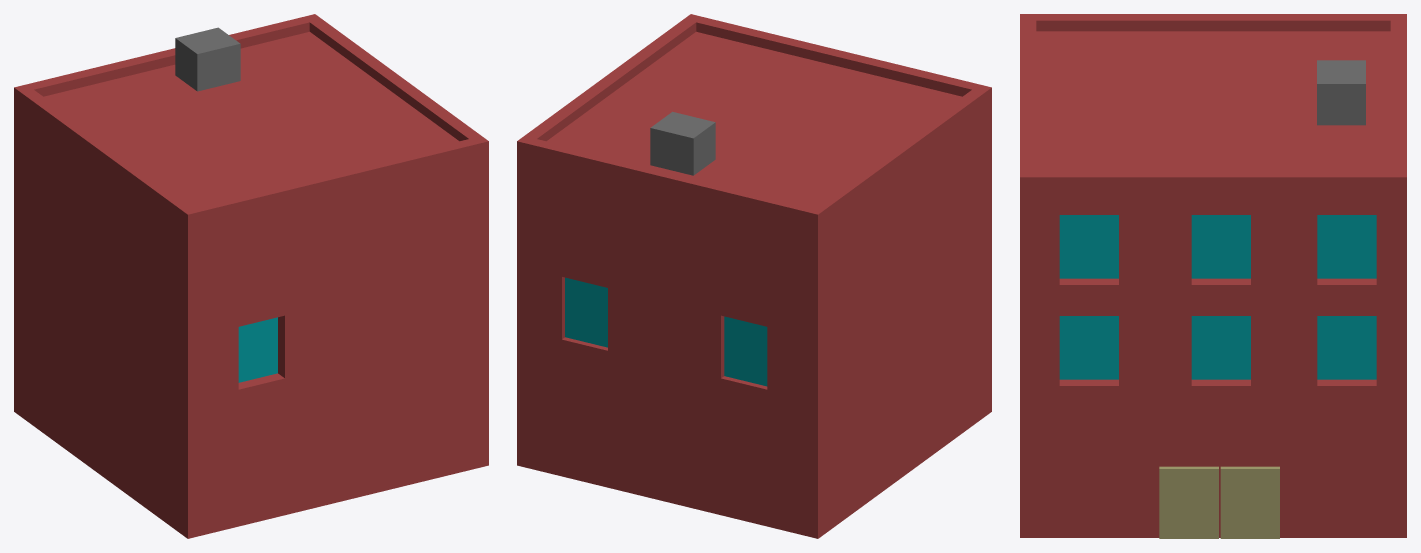
Rendered from House2.fbx.
The picture shows the model from 3 angles, left to right: view 1: azimuth 30°, elevation 25°; view 2: azimuth 150°, elevation 25°; view 3: azimuth 270°, elevation 25°; orthographic projection. The views are drawn at different scales.
Parts seen in each view (by area): view 1: House2; view 2: House2; view 3: House2.
Boxes of the visible parts, <box> form: House2: <box>14,14,488,538</box>; House2: <box>517,14,991,538</box>; House2: <box>1020,14,1406,538</box>.
Size of the model in its own units: 2.19 by 2.41 by 2.16.
